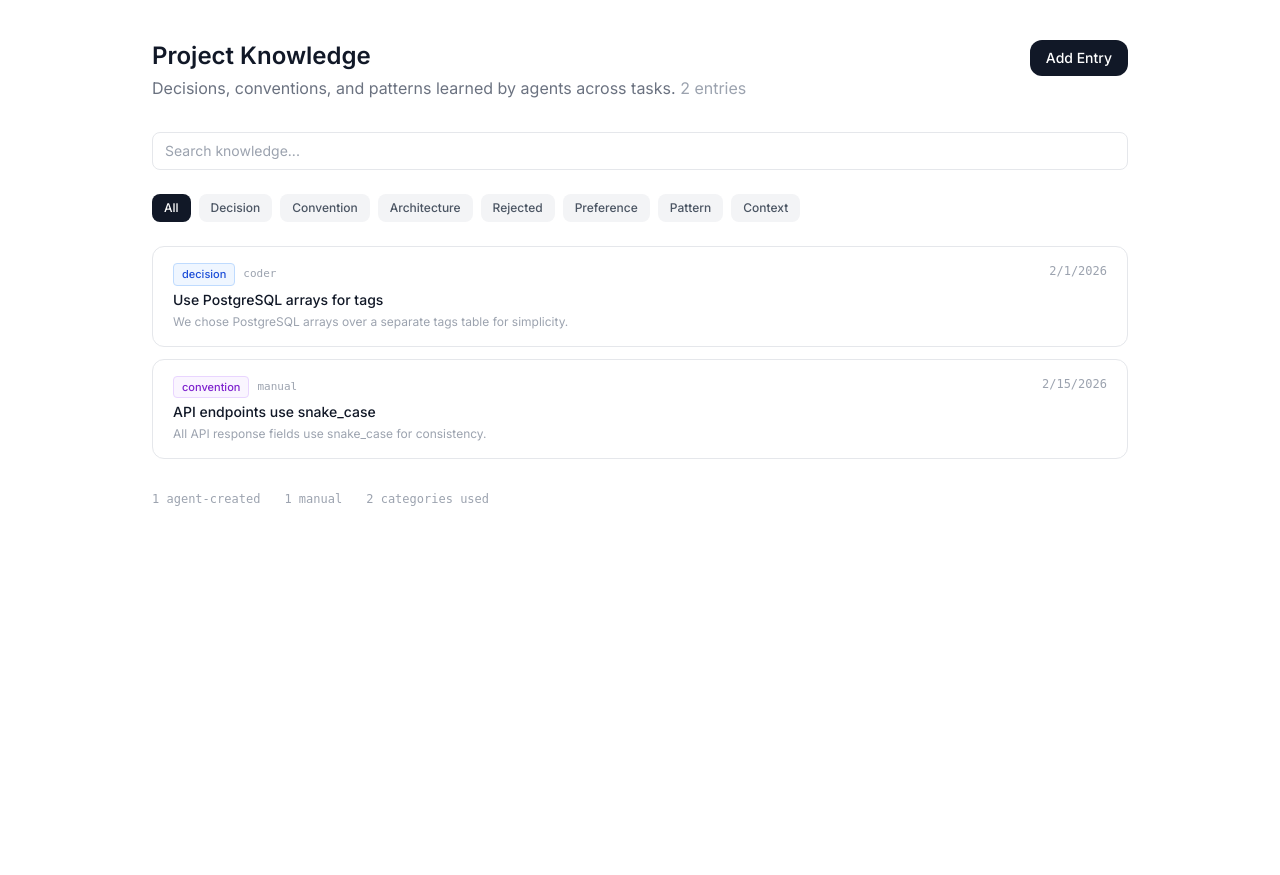
Test: KnowledgePage › Create Entry button is enabled when title and content filled
Check: the heading "Project Knowledge" is shown, box [152,41,371,70]
Click the button "Add Entry" at (1079, 58), box [1030,40,1128,76]
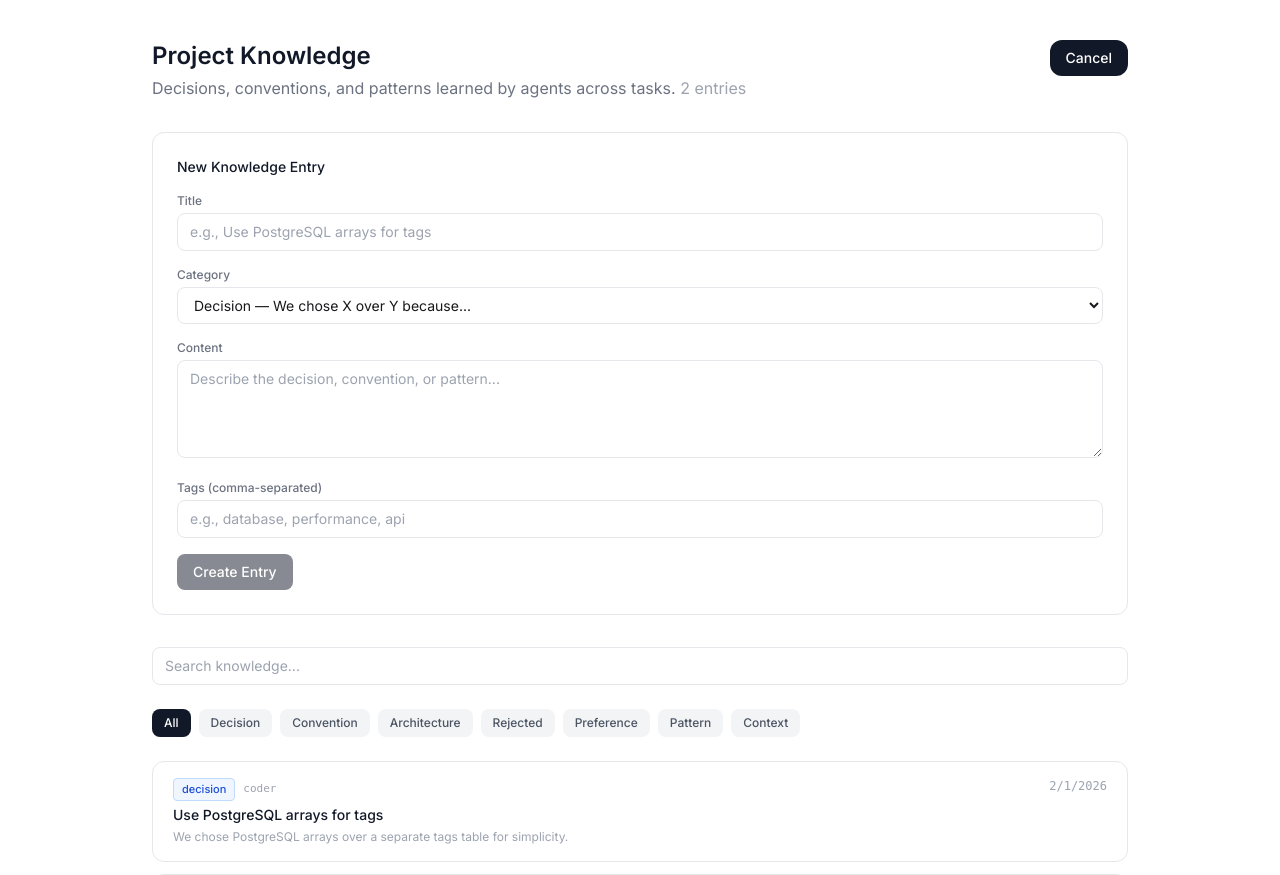
Type "New entry" into the field with placeholder "e.g., Use PostgreSQL arrays for tags" at (640, 232), box [177,213,1103,251]
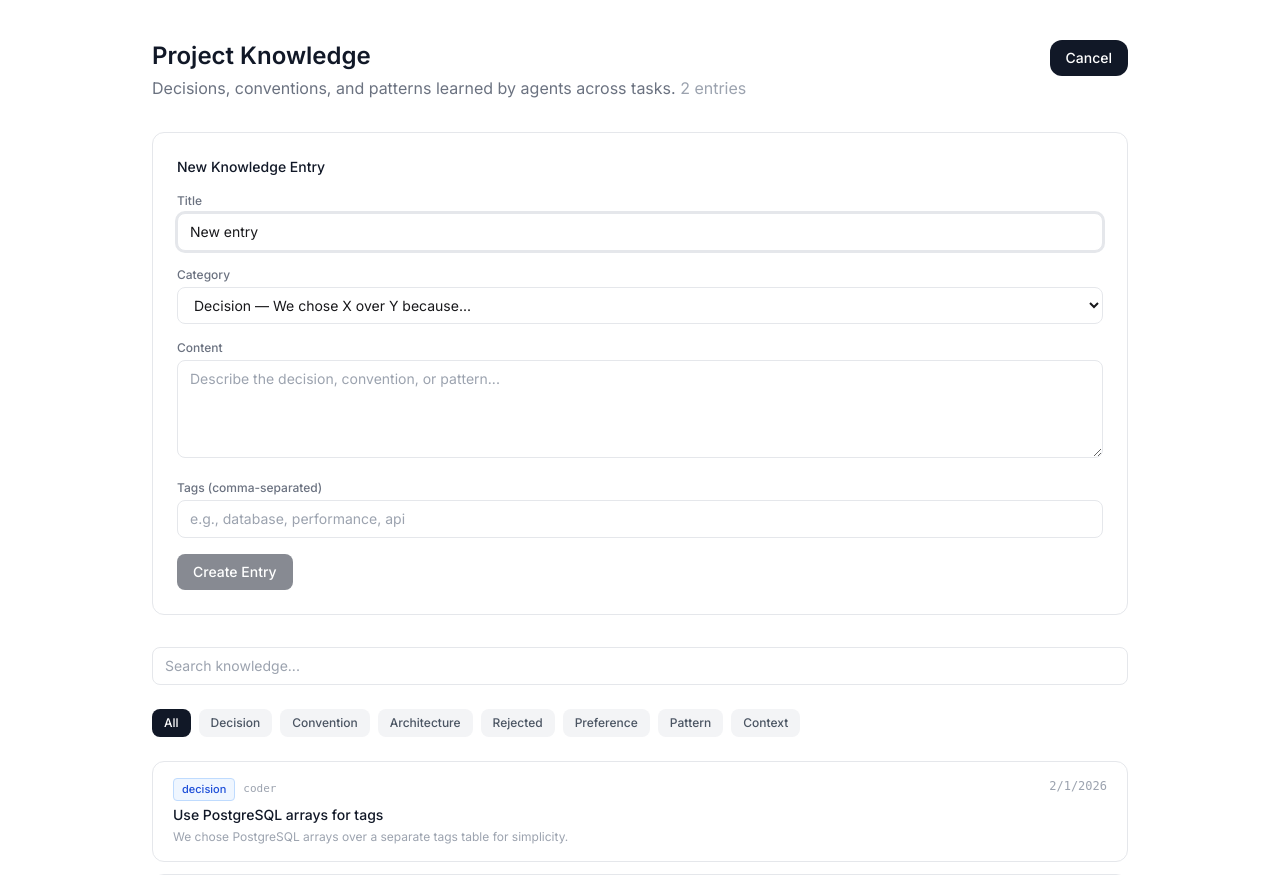
Type "Some content" into the text box with placeholder "Describe the decision, convention, or pattern..." at (640, 409), box [177,360,1103,458]
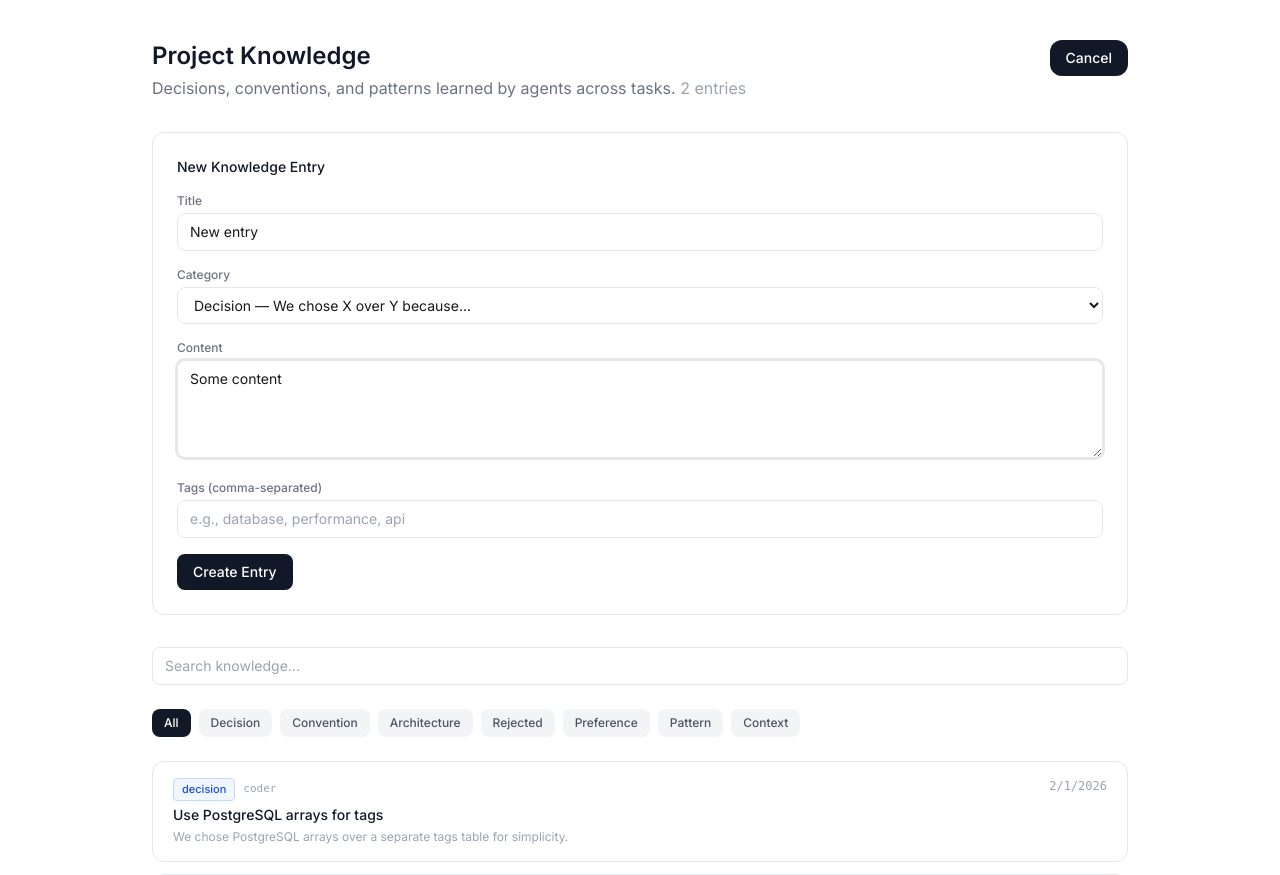
Check: the button "Create Entry" is enabled, box [177,554,293,590]
